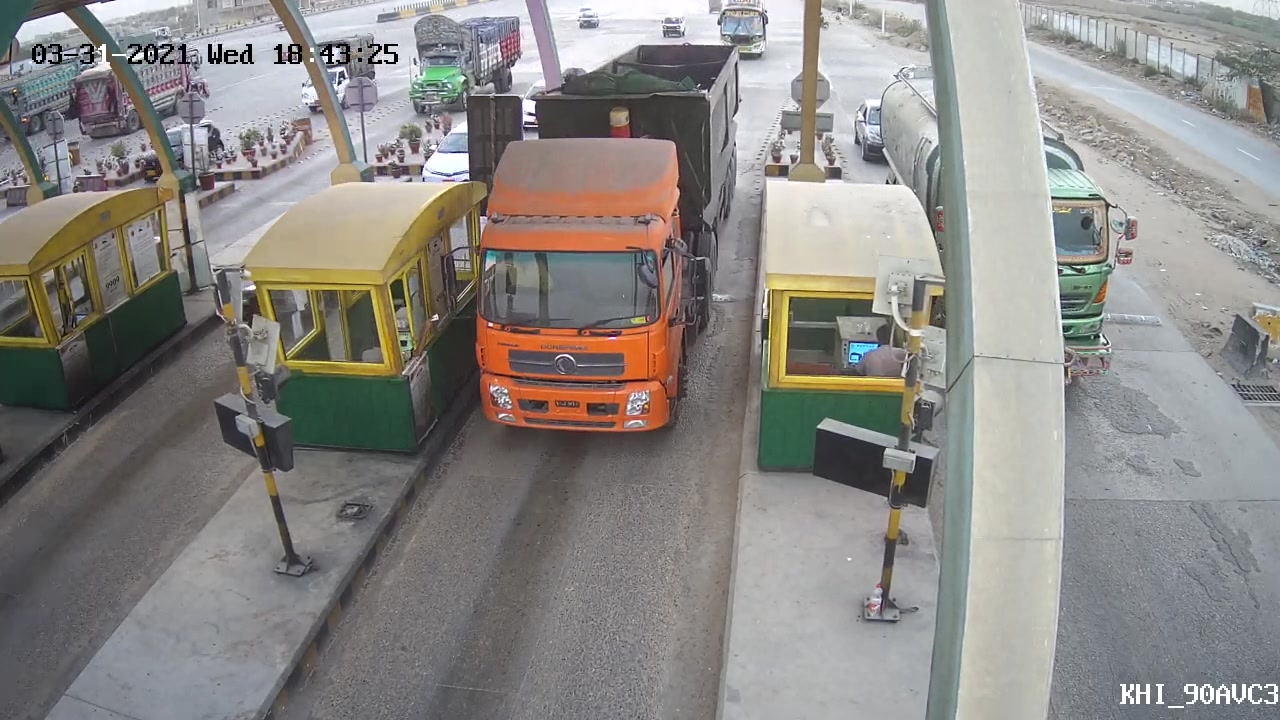F5: (446, 38, 748, 447)
